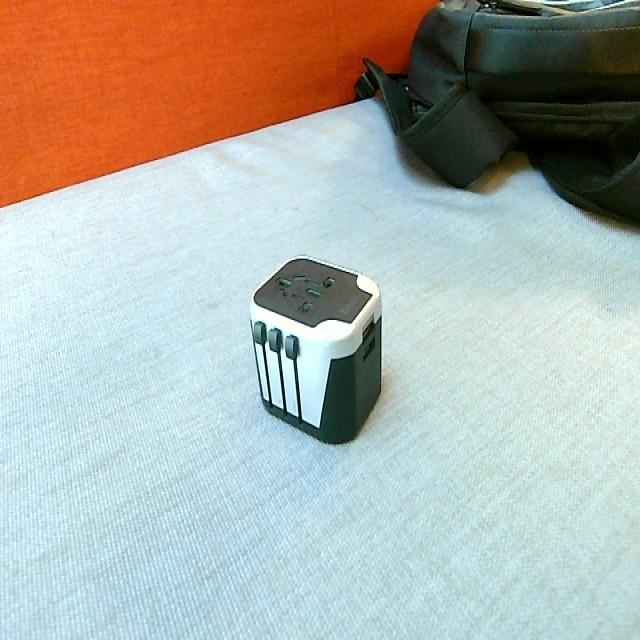adapter: (248, 253, 383, 444)
